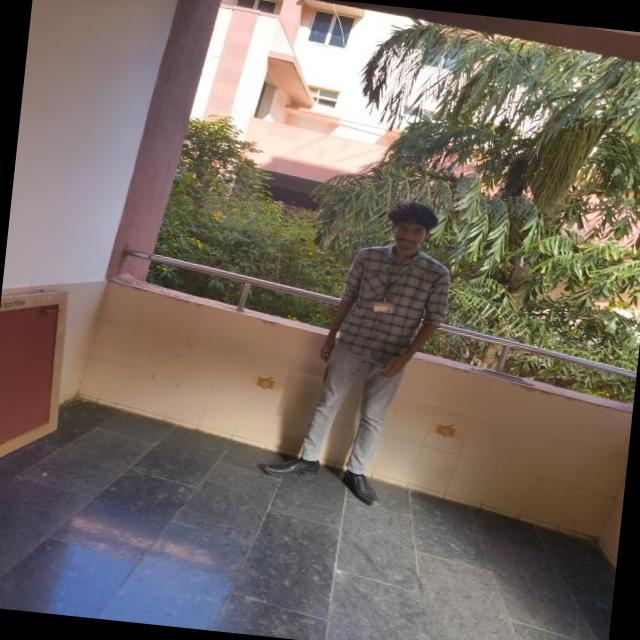id_card: (371, 252, 421, 318)
